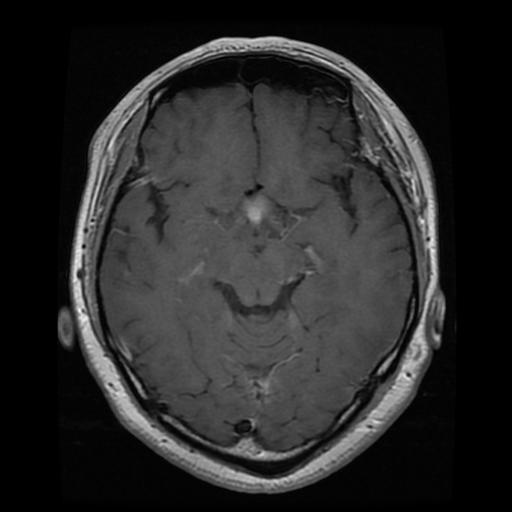Pituirity_tumour: (240, 190, 277, 225)
